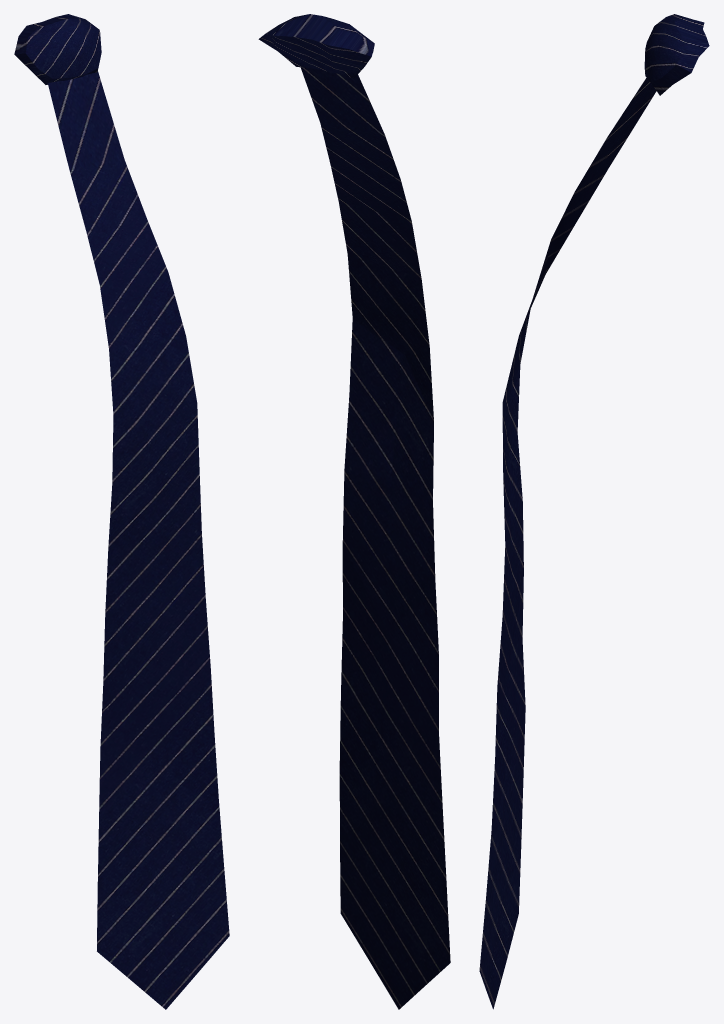
The model's file is Pose-3_Tie-4.fbx.
3 views of the same model, side by side, from view 1: azimuth 30°, elevation 25°; view 2: azimuth 150°, elevation 25°; view 3: azimuth 270°, elevation 25° (orthographic). The views are drawn at different scales.
Parts seen in each view (by area): view 1: Pose-3_Tie-4; view 2: Pose-3_Tie-4; view 3: Pose-3_Tie-4.
Part boxes in pixels (<box>): Pose-3_Tie-4: <box>14,14,229,1009</box>; Pose-3_Tie-4: <box>258,14,450,1009</box>; Pose-3_Tie-4: <box>479,14,709,1009</box>.
Bounding box in the file's own units: 7.15 × 52.45 × 11.17.
